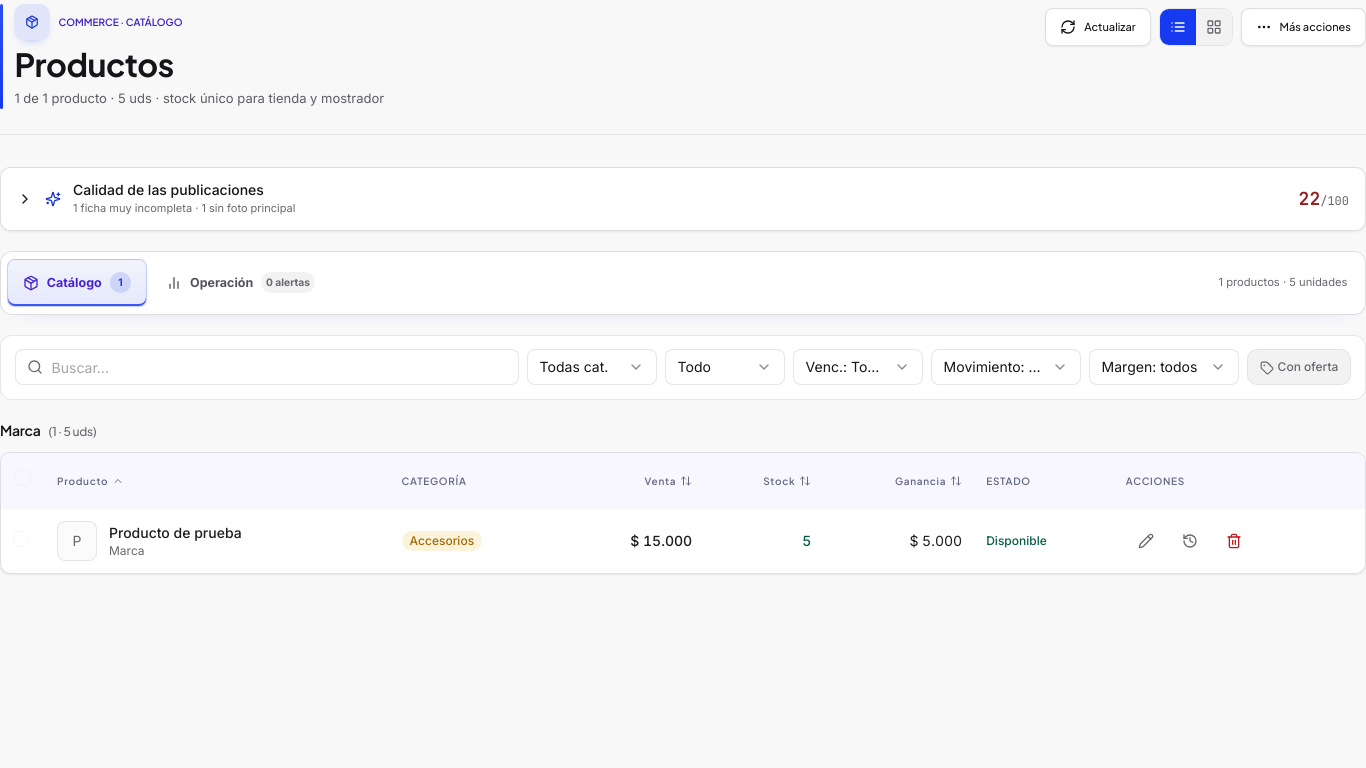
Test case: flujo real de Productos con backend simulado › abre el editor aun sin permiso de crear y con limite de plan alcanzado
The image size is (1366, 768).
Expected: the element named "Tabla de productos" is shown, [0,452,1365,574]
What coordinates should you click on to do the following:
click the button named "Editar Producto de prueba"
I would click on:
 (1146, 541)
Its box is [1126,521,1166,561].
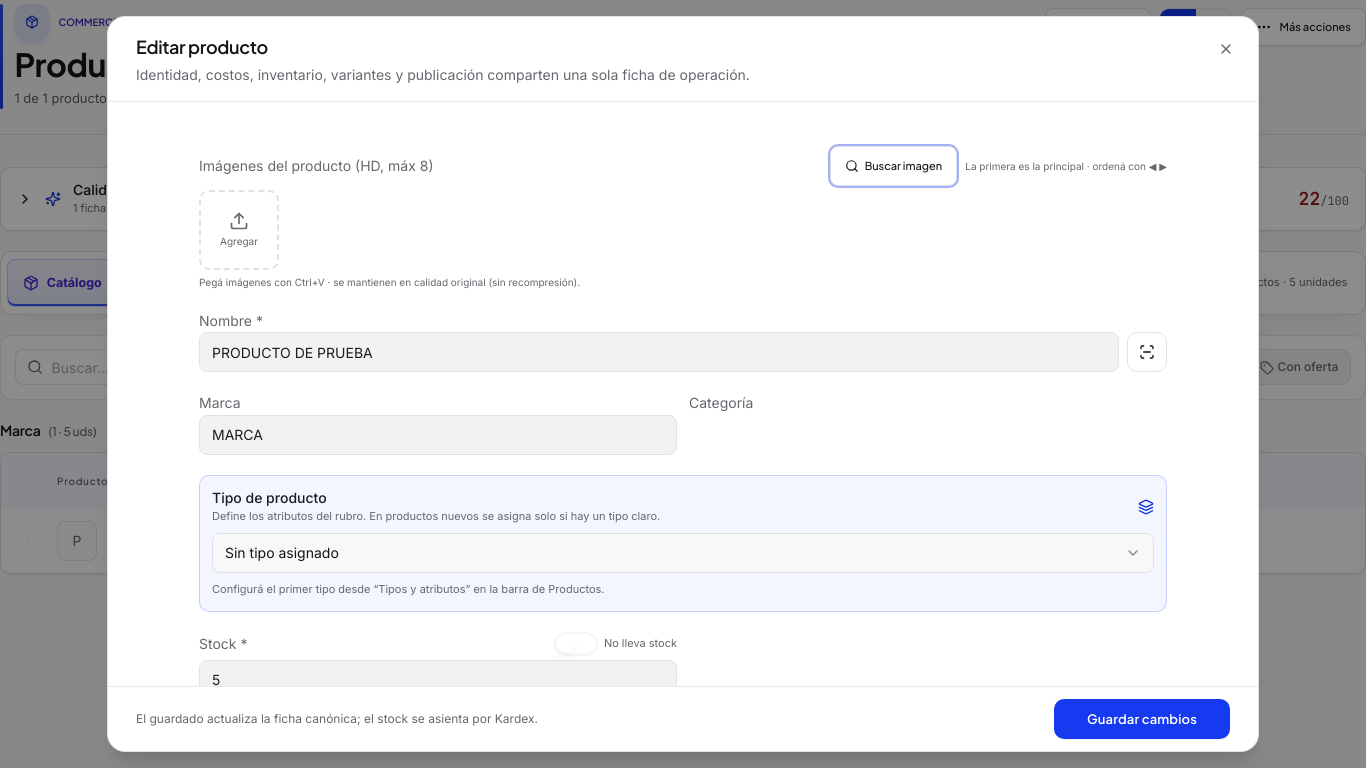
Result: the dialog "Editar producto" is shown
Result: the field showing "Producto de prueba" is shown at [199,332,1119,372]
